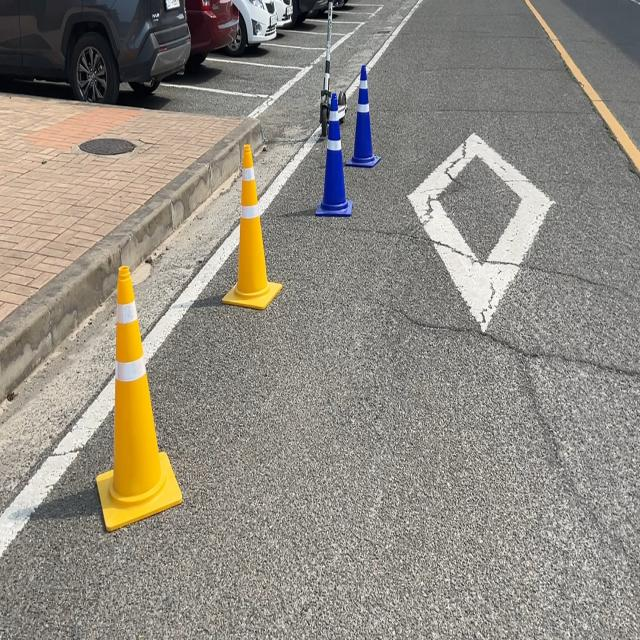b_rub: (316, 91, 353, 215), (346, 63, 381, 166)
y_rub: (96, 265, 182, 531), (222, 143, 282, 308)
